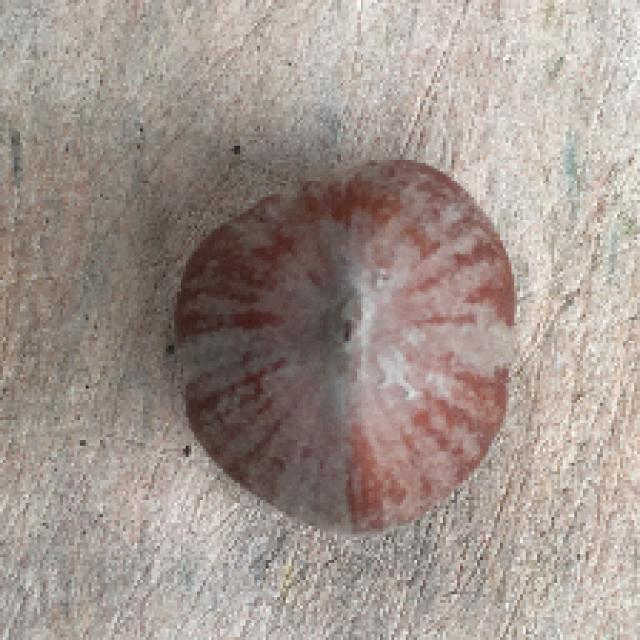qualityHazelnut: (179, 156, 519, 533)
